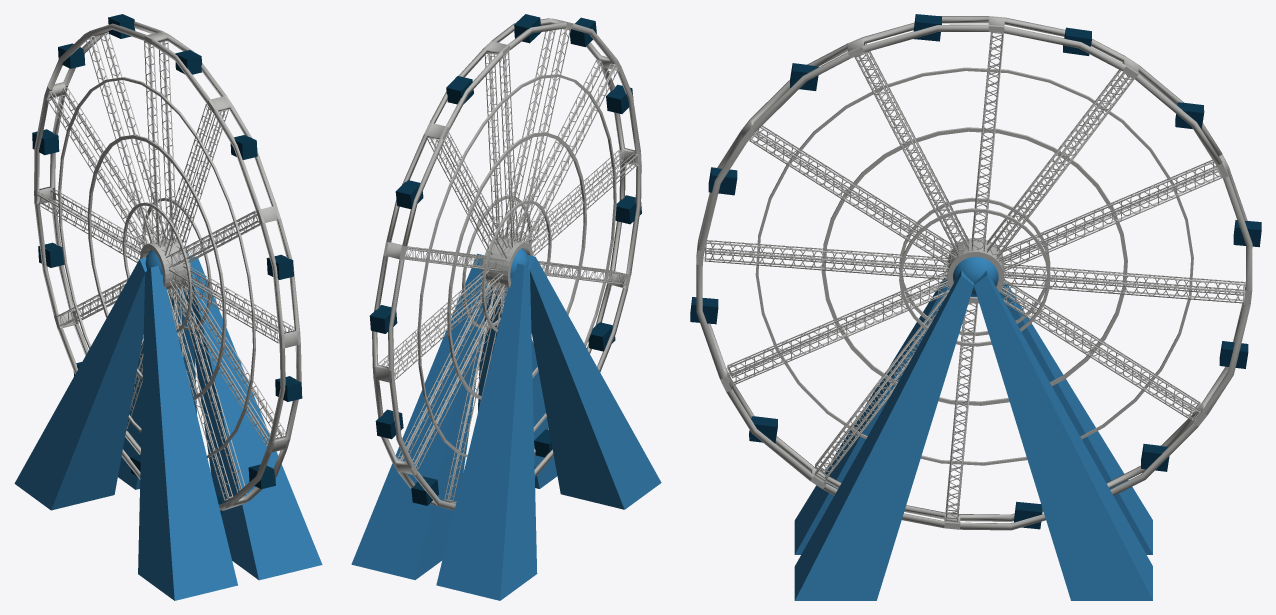
3 views of the same model, side by side, from view 1: azimuth 30°, elevation 25°; view 2: azimuth 150°, elevation 25°; view 3: azimuth 270°, elevation 25° (orthographic). The views are drawn at different scales.
Visible parts, largest first — view 1: VueltaAlMundoAnimada, MaestroVueltaAlMundoRuleta.001, Cube.123; view 2: VueltaAlMundoAnimada, MaestroVueltaAlMundoRuleta.001, Cube.123; view 3: MaestroVueltaAlMundoRuleta.001, VueltaAlMundoAnimada, Cube.123.
Part boxes in pixels (x1,y1,x2,y2): VueltaAlMundoAnimada: [14, 252, 322, 600]; MaestroVueltaAlMundoRuleta.001: [34, 21, 301, 510]; Cube.123: [32, 14, 302, 514]; VueltaAlMundoAnimada: [351, 253, 661, 600]; MaestroVueltaAlMundoRuleta.001: [372, 18, 641, 510]; Cube.123: [369, 14, 641, 505]; MaestroVueltaAlMundoRuleta.001: [696, 16, 1252, 530]; VueltaAlMundoAnimada: [794, 270, 1152, 600]; Cube.123: [690, 14, 1261, 529].
Bounding box in the file's own units: 16.93 × 53.11 × 50.7.
3 materials, 1 textured.
